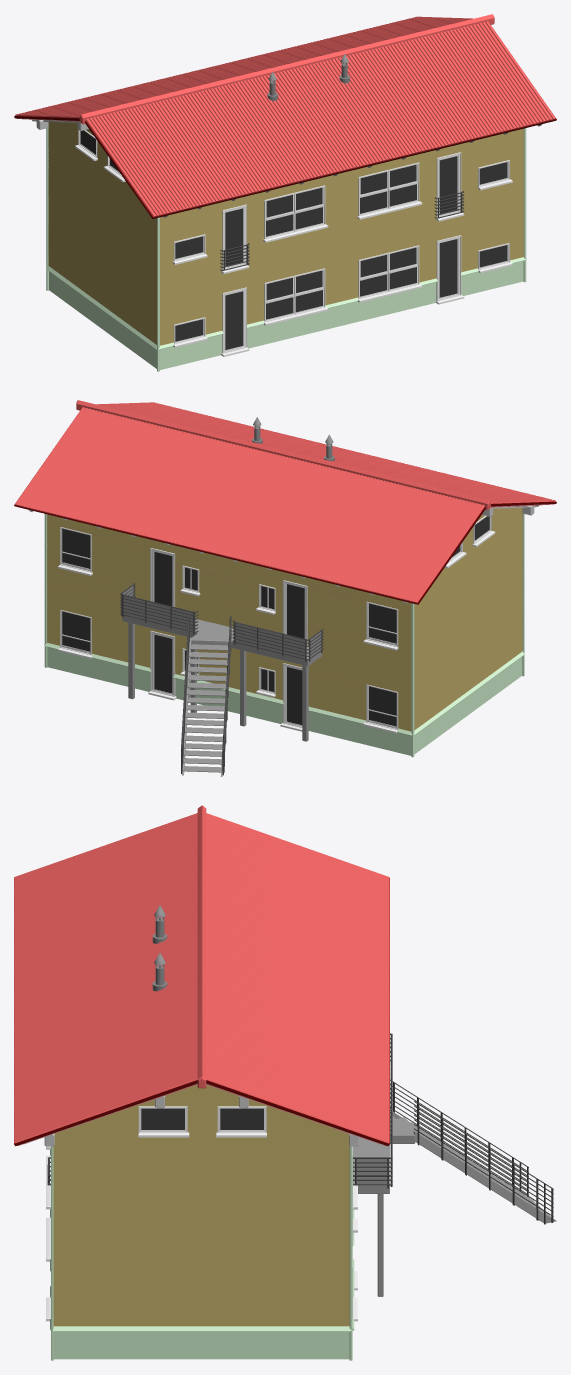
The model's file is apartment-house.fbx.
3 renders of one model, top to bottom at view 1: azimuth 30°, elevation 25°; view 2: azimuth 150°, elevation 25°; view 3: azimuth 270°, elevation 25°, orthographic. The views are drawn at different scales.
Visible parts, largest first — view 1: Apartment House; view 2: Apartment House; view 3: Apartment House.
Boxes of the visible parts, x1=… form: Apartment House: x1=14, y1=14, x2=556, y2=371; Apartment House: x1=14, y1=400, x2=556, y2=776; Apartment House: x1=14, y1=805, x2=556, y2=1360.
Bounding box in the file's own units: 517 × 280 × 436.
